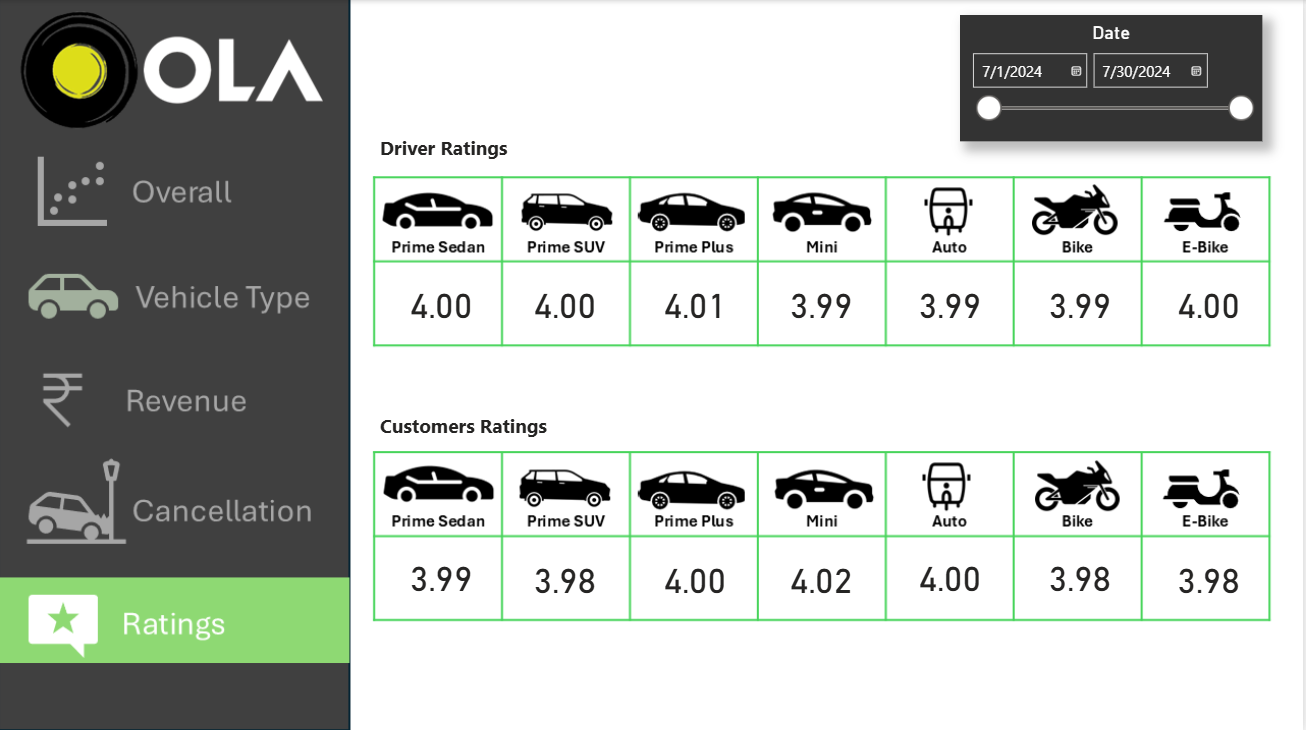

Layout of this report page (visuals, bound fields, positions):
{"tool":"powerbi","page":{"name":"Ratings","canvas":[1280,720],"ordinal":4},"visuals":[{"type":"actionButton","box":[0,244.2,344.8,87.1],"z":0},{"type":"actionButton","box":[0,349.7,344.8,85.9],"z":1000},{"type":"actionButton","box":[0,456.4,344.8,85.9],"z":2000},{"type":"actionButton","box":[0,138.7,343.6,93.3],"z":3000},{"type":"card","fields":{"Values":["Avg(July.Driver_Ratings)"]},"box":[380,264.3,105.7,67.1],"z":4000},{"type":"card","fields":{"Values":["Avg(July.Driver_Ratings)"]},"box":[501.4,264.3,105.7,67.1],"z":5000},{"type":"card","fields":{"Values":["Avg(July.Driver_Ratings)"]},"box":[630,264.3,105.7,67.1],"z":6000},{"type":"card","fields":{"Values":["Avg(July.Driver_Ratings)"]},"box":[752.9,264.3,105.7,67.1],"z":7000},{"type":"card","fields":{"Values":["Avg(July.Driver_Ratings)"]},"box":[880,264.3,105.7,67.1],"z":8000},{"type":"card","fields":{"Values":["Avg(July.Driver_Ratings)"]},"box":[1007.1,264.3,105.7,67.1],"z":9000},{"type":"card","fields":{"Values":["Avg(July.Driver_Ratings)"]},"box":[1134.3,264.3,105.7,67.1],"z":10000},{"type":"textbox","box":[368.6,127.1,144.3,38.6],"z":11000},{"type":"textbox","box":[368.6,400,175.7,35.7],"z":12000},{"type":"card","fields":{"Values":["Avg(July.Customer_Rating)"]},"box":[380,532.9,105.7,67.1],"z":13000},{"type":"card","fields":{"Values":["Avg(July.Customer_Rating)"]},"box":[501.4,534.3,105.7,67.1],"z":14000},{"type":"card","fields":{"Values":["Avg(July.Customer_Rating)"]},"box":[630,534.3,105.7,67.1],"z":15000},{"type":"card","fields":{"Values":["Avg(July.Customer_Rating)"]},"box":[752.9,534.3,105.7,67.1],"z":16000},{"type":"card","fields":{"Values":["Avg(July.Customer_Rating)"]},"box":[880,532.9,105.7,67.1],"z":17000},{"type":"card","fields":{"Values":["Avg(July.Customer_Rating)"]},"box":[1007.1,532.9,105.7,67.1],"z":18000},{"type":"card","fields":{"Values":["Avg(July.Customer_Rating)"]},"box":[1134.3,534.3,105.7,67.1],"z":19000},{"type":"slicer","title":"Date","fields":{"Values":["July.Date"]},"box":[942.9,14.3,297.1,124.3],"z":20000}]}

Visuals, with their boxes on the page's 1280x720 design canvas (x1, y1, x2, y2). These are canvas units, not pixel positions in the 1306x730 screenshot, which may show the page scaled, cropped or inside an application window:
actionButton: bbox(0, 244, 345, 331)
actionButton: bbox(0, 350, 345, 436)
actionButton: bbox(0, 456, 345, 542)
actionButton: bbox(0, 139, 344, 232)
card - Avg(July.Driver_Ratings): bbox(380, 264, 486, 331)
card - Avg(July.Driver_Ratings): bbox(501, 264, 607, 331)
card - Avg(July.Driver_Ratings): bbox(630, 264, 736, 331)
card - Avg(July.Driver_Ratings): bbox(753, 264, 859, 331)
card - Avg(July.Driver_Ratings): bbox(880, 264, 986, 331)
card - Avg(July.Driver_Ratings): bbox(1007, 264, 1113, 331)
card - Avg(July.Driver_Ratings): bbox(1134, 264, 1240, 331)
textbox: bbox(369, 127, 513, 166)
textbox: bbox(369, 400, 544, 436)
card - Avg(July.Customer_Rating): bbox(380, 533, 486, 600)
card - Avg(July.Customer_Rating): bbox(501, 534, 607, 601)
card - Avg(July.Customer_Rating): bbox(630, 534, 736, 601)
card - Avg(July.Customer_Rating): bbox(753, 534, 859, 601)
card - Avg(July.Customer_Rating): bbox(880, 533, 986, 600)
card - Avg(July.Customer_Rating): bbox(1007, 533, 1113, 600)
card - Avg(July.Customer_Rating): bbox(1134, 534, 1240, 601)
"Date" slicer: bbox(943, 14, 1240, 139)
